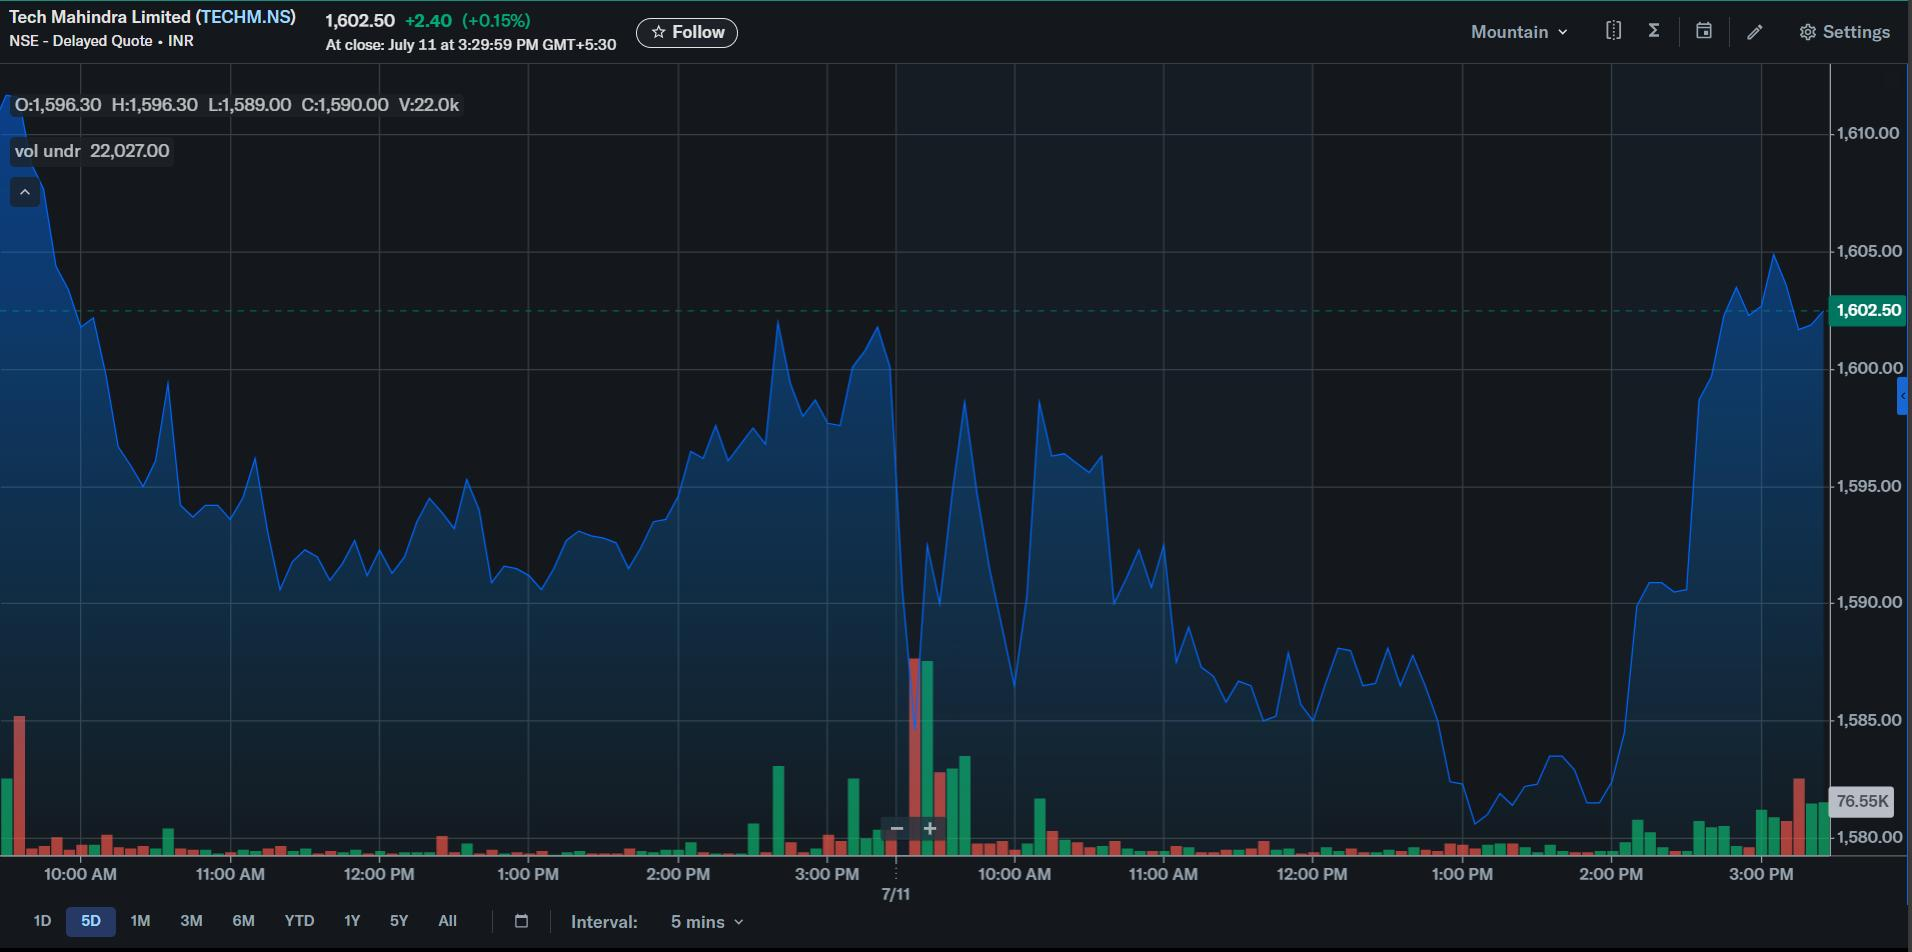Downtrend: (38, 177, 160, 505), (958, 380, 1035, 713), (1147, 520, 1204, 689)
Sideways: (274, 527, 411, 607), (1319, 629, 1435, 719)
Uptrend: (1546, 305, 1733, 814), (504, 323, 802, 601)
